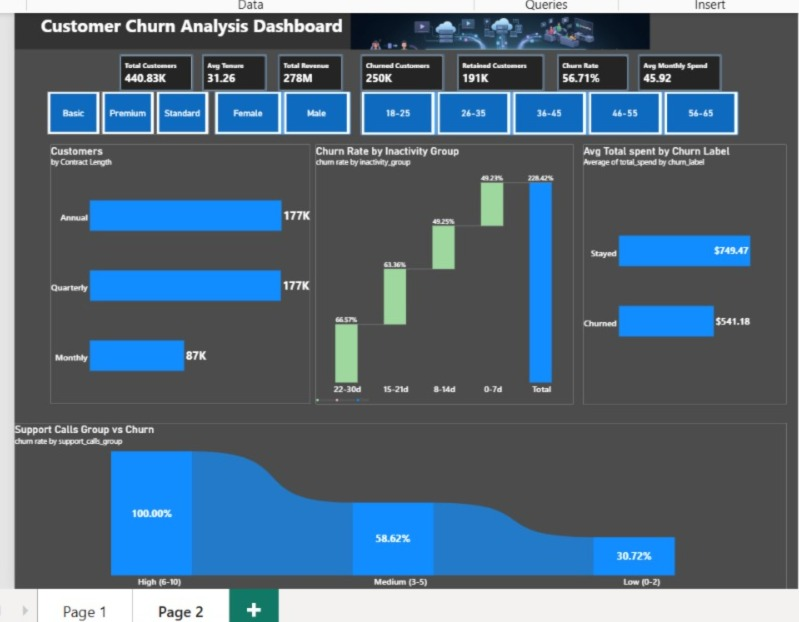

What the dashboard file says about the page in this screenshot:
{"tool":"powerbi","page":{"name":"Page 2","canvas":[3200,2350],"ordinal":1},"visuals":[{"type":"cardVisual","fields":{"Data":["measure.churn rate"]},"box":[2212,168,292,152],"z":0},{"type":"cardVisual","fields":{"Data":["measure.total revenue"]},"box":[1076,168,264,152],"z":1000},{"type":"textbox","box":[0,0,1448.1,149],"z":2000},{"type":"cardVisual","fields":{"Data":["measure.total customers"]},"box":[428.6,168.6,300,151.4],"z":3000},{"type":"advancedSlicerVisual","title":"Gender","fields":{"Values":["churn_clean (3).gender"]},"box":[816,320,555.6,174.1],"z":8000},{"type":"cardVisual","fields":{"Data":["measure.avg monthly spend"]},"box":[2548,168,340,152],"z":10000},{"type":"cardVisual","fields":{"Data":["measure.avg tenure"]},"box":[764,168,264,152],"z":11000},{"type":"advancedSlicerVisual","title":"Age Group","fields":{"Values":["churn_clean (3).age_group"]},"box":[1412,320,1540,176],"z":13000},{"type":"advancedSlicerVisual","title":"Subscription Type","fields":{"Values":["churn_clean (3).subscription_type"]},"box":[132,320,663,174.1],"z":14000},{"type":"cardVisual","fields":{"Data":["measure.Churned Customers"]},"box":[1412,168,340,152],"z":15000},{"type":"cardVisual","fields":{"Data":["churn_clean (3).Retained Customers"]},"box":[1808,168,356,152],"z":16000},{"type":"image","box":[1370.8,0,1220.8,150],"z":19000},{"type":"waterfallChart","title":"Churn Rate by Inactivity Group","fields":{"Category":["churn_clean (3).inactivity_group"],"Y":["measure.churn rate"]},"box":[1230.4,534.8,1052.2,1060.9],"z":21000},{"type":"ribbonChart","title":"Support Calls Group vs Churn ","fields":{"Category":["churn_clean (3).support_calls_group"],"Y":["measure.churn rate"]},"box":[0,1672.7,3152.2,678.3],"z":22000},{"type":"clusteredBarChart","title":"Avg Total spent by Churn Label","fields":{"Category":["churn_clean (3).churn_label"],"Y":["Avg(churn_clean (3).total_spend)"]},"box":[2322.2,533.3,829.6,1063],"z":23000},{"type":"clusteredBarChart","fields":{"Category":["churn_clean (3).contract_length"],"Y":["measure.total customers"]},"box":[148.1,533.3,1059.3,1059.3],"z":23001}]}

Visuals, with their boxes on the page's 3200x2350 design canvas (x1, y1, x2, y2). These are canvas units, not pixel positions in the 799x622 screenshot, which may show the page scaled, cropped or inside an application window:
cardVisual - measure.churn rate: x1=2212, y1=168, x2=2504, y2=320
cardVisual - measure.total revenue: x1=1076, y1=168, x2=1340, y2=320
textbox: x1=0, y1=0, x2=1448, y2=149
cardVisual - measure.total customers: x1=429, y1=169, x2=729, y2=320
"Gender" advancedSlicerVisual: x1=816, y1=320, x2=1372, y2=494
cardVisual - measure.avg monthly spend: x1=2548, y1=168, x2=2888, y2=320
cardVisual - measure.avg tenure: x1=764, y1=168, x2=1028, y2=320
"Age Group" advancedSlicerVisual: x1=1412, y1=320, x2=2952, y2=496
"Subscription Type" advancedSlicerVisual: x1=132, y1=320, x2=795, y2=494
cardVisual - measure.Churned Customers: x1=1412, y1=168, x2=1752, y2=320
cardVisual - churn_clean (3).Retained Customers: x1=1808, y1=168, x2=2164, y2=320
image: x1=1371, y1=0, x2=2592, y2=150
"Churn Rate by Inactivity Group" waterfallChart: x1=1230, y1=535, x2=2283, y2=1596
"Support Calls Group vs Churn " ribbonChart: x1=0, y1=1673, x2=3152, y2=2351
"Avg Total spent by Churn Label" clusteredBarChart: x1=2322, y1=533, x2=3152, y2=1596
clusteredBarChart - churn_clean (3).contract_length x measure.total customers: x1=148, y1=533, x2=1207, y2=1593
